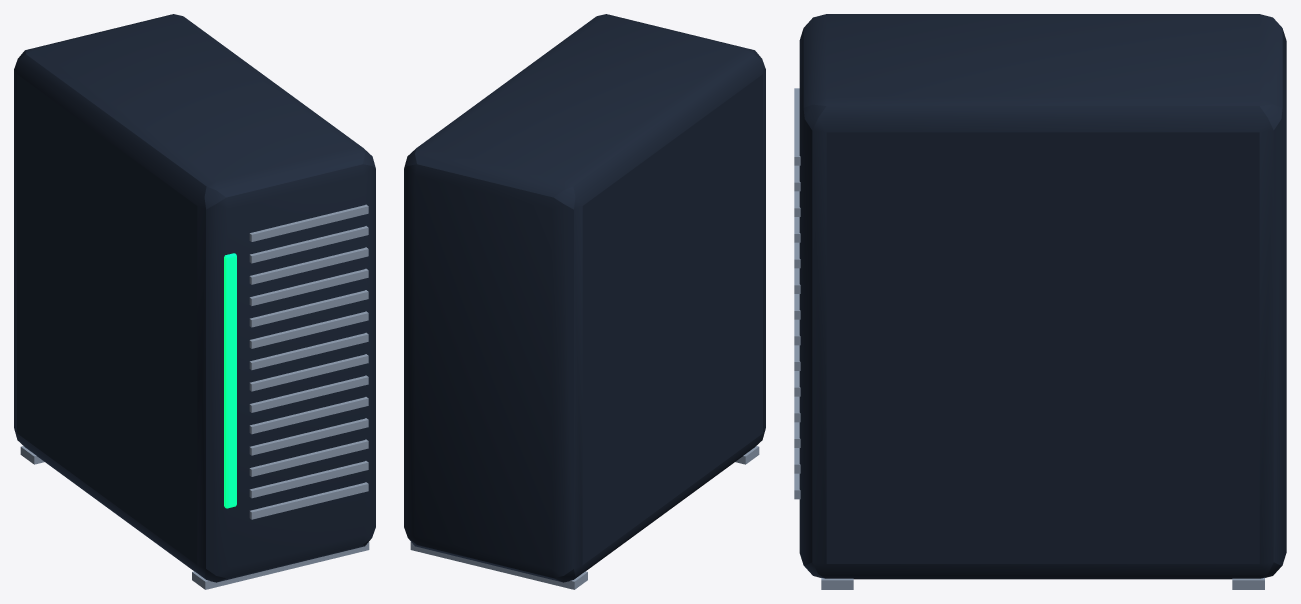
The model's file is server.glb.
3 views of the same model, side by side, from view 1: azimuth 30°, elevation 25°; view 2: azimuth 150°, elevation 25°; view 3: azimuth 270°, elevation 25° (orthographic). The views are drawn at different scales.
Parts seen in each view (by area): view 1: body, status; view 2: body; view 3: body.
Part boxes in pixels (x1,y1,x2,y2): body: (14, 14, 375, 589); status: (224, 253, 236, 508); body: (404, 14, 765, 589); body: (794, 14, 1286, 589).
Size of the model in its own units: 0.4545 by 1 by 0.9187.
